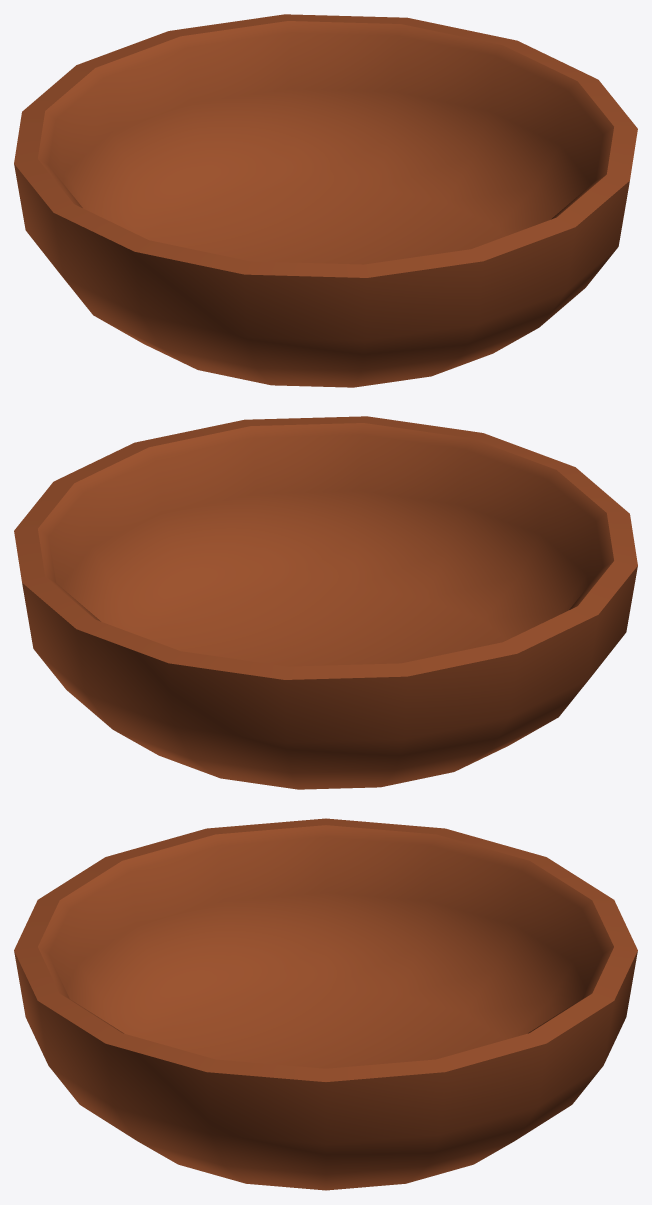
Rendered from SM_Bowl_01.FBX.
The picture shows the model from 3 angles, top to bottom: view 1: azimuth 30°, elevation 25°; view 2: azimuth 150°, elevation 25°; view 3: azimuth 270°, elevation 25°; orthographic projection.
Parts seen in each view (by area): view 1: SM_Bowl_01; view 2: SM_Bowl_01; view 3: SM_Bowl_01.
Part boxes in pixels (bbox=[...]): SM_Bowl_01: bbox=[14, 14, 637, 387]; SM_Bowl_01: bbox=[14, 416, 637, 789]; SM_Bowl_01: bbox=[14, 818, 637, 1190].
Size of the model in its own units: 28.28 by 7.76 by 28.28.
